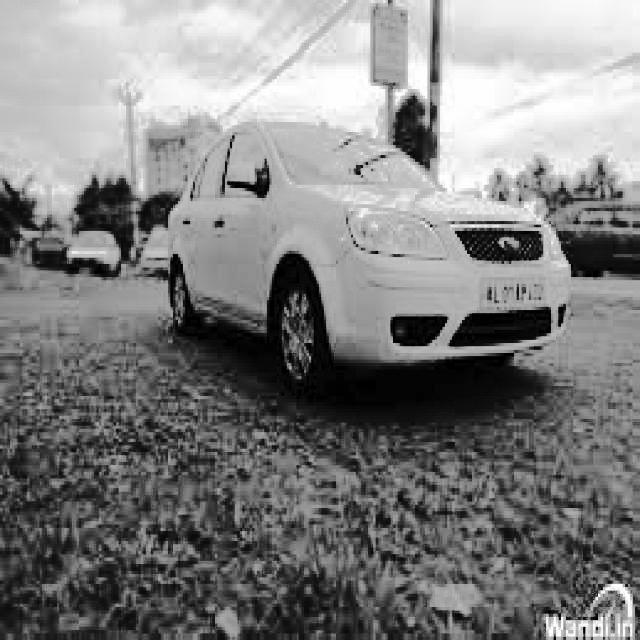Car: (156, 114, 576, 382)
